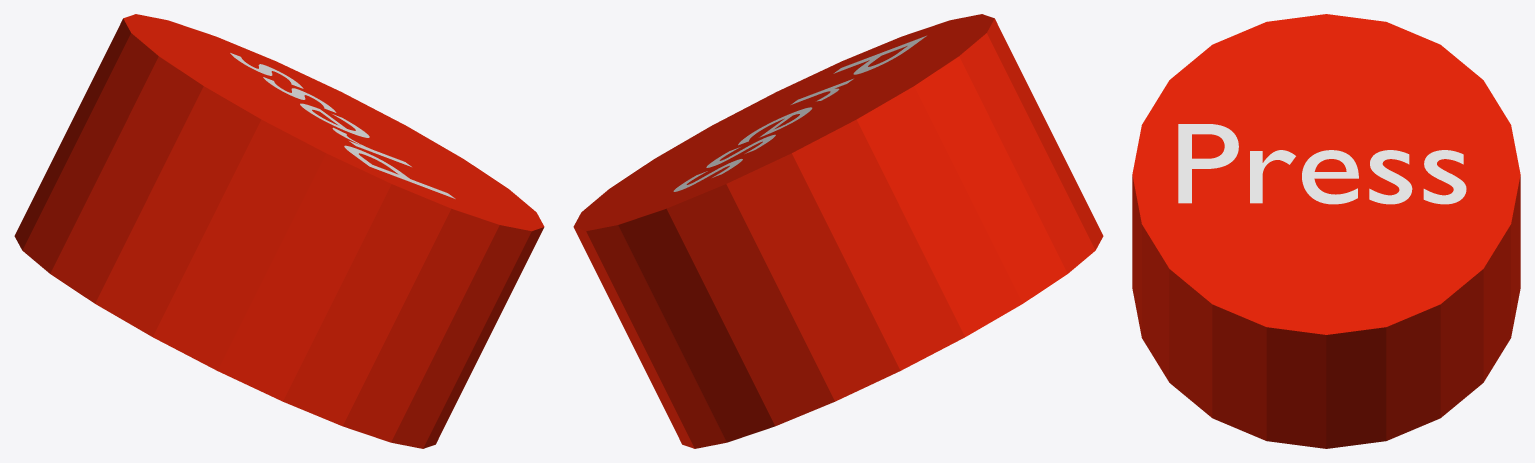
The model's file is Кнопка для конвеера.fbx.
3 renders of one model, left to right at view 1: azimuth 30°, elevation 25°; view 2: azimuth 150°, elevation 25°; view 3: azimuth 270°, elevation 25°, orthographic. The views are drawn at different scales.
Visible parts, largest first — view 1: Cylinder.001; view 2: Cylinder.001; view 3: Cylinder.001.
Boxes of the visible parts, <box> form: Cylinder.001: <box>14,14,544,448</box>; Cylinder.001: <box>573,14,1103,448</box>; Cylinder.001: <box>1132,14,1520,448</box>.
Bounding box in the file's own units: 28.81 × 24.56 × 25.58.
